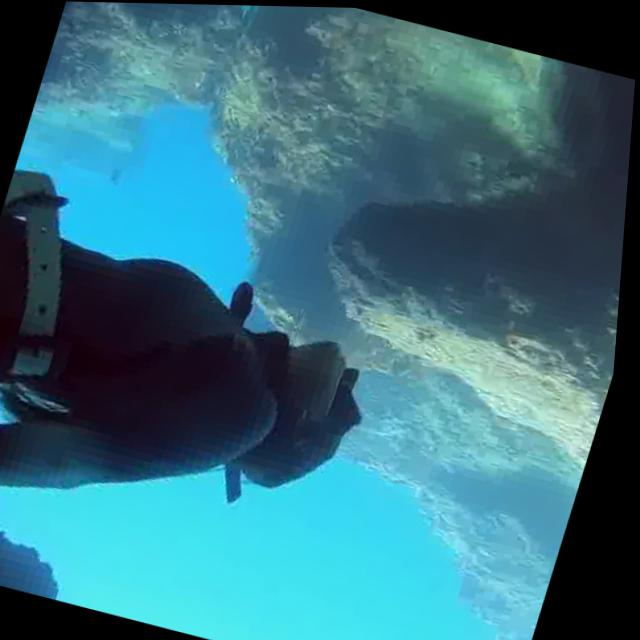human: (0, 79, 446, 634)
